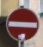No entry: (6, 6, 38, 41)
